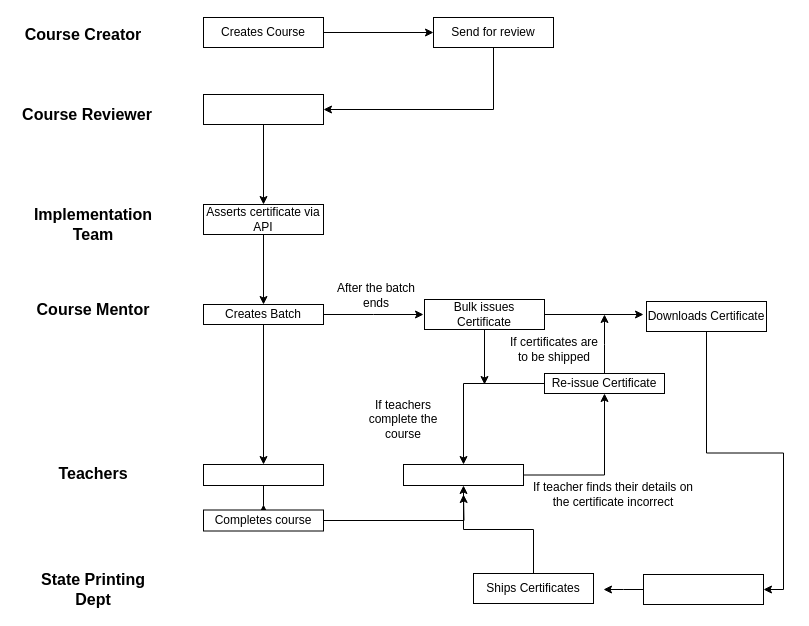
Some shapes in this 809 by 626 pixel diagram are drawn without their labels. The shapes that lost their labels are listed below. From the top down, each one's box as (x1, y1, x2, y2) in pixels, then its label:
(202, 94, 324, 124): Publishes Course
(202, 464, 324, 486): Enrolls into batch
(402, 464, 524, 486): Receives Certificate
(642, 574, 764, 604): Prints Certificate
